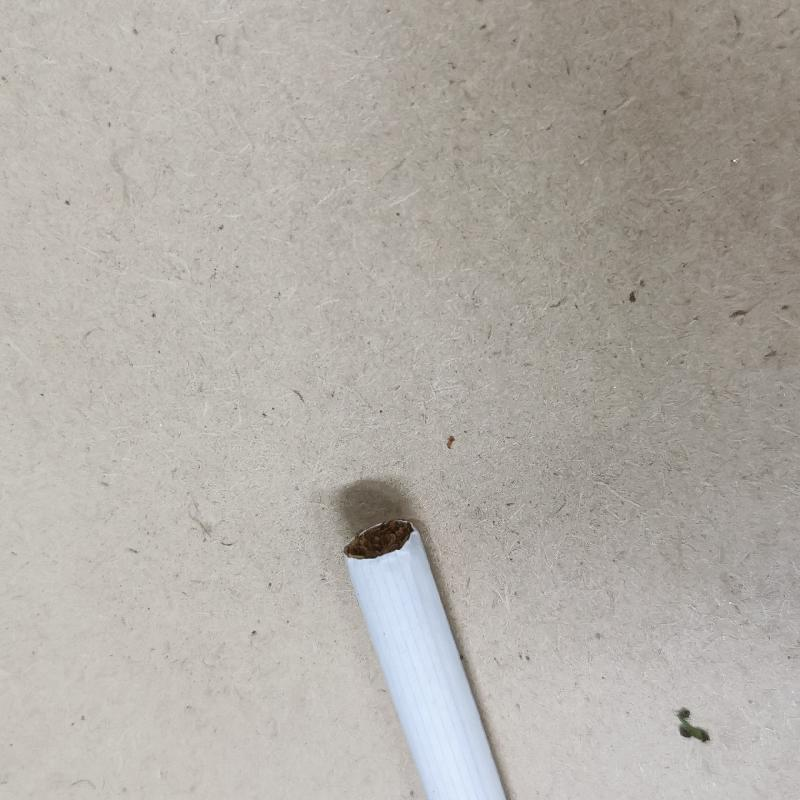cigarette: (334, 514, 517, 799)
